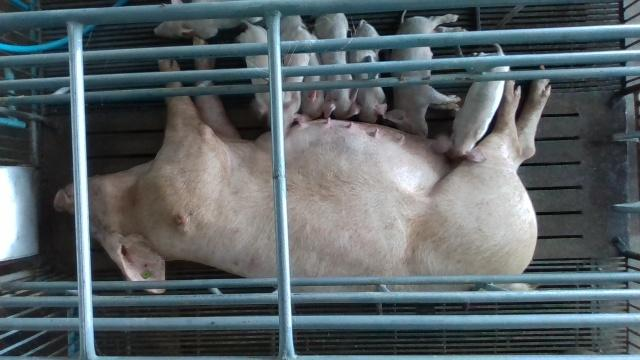piglet: (430, 37, 510, 164), (382, 18, 459, 134), (317, 14, 359, 120), (349, 20, 389, 123), (239, 24, 270, 128), (281, 15, 309, 130), (300, 30, 326, 120), (155, 19, 262, 39)
sow-sleep-lactate: (54, 32, 552, 294)
